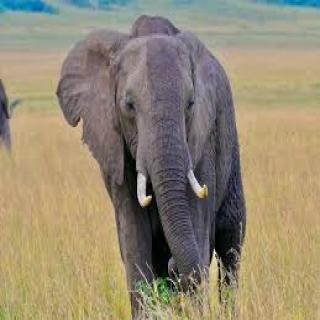Elephant: (53, 12, 251, 318)
